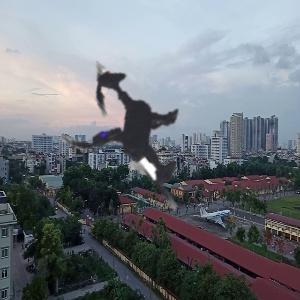drone: (3, 12, 262, 271)
